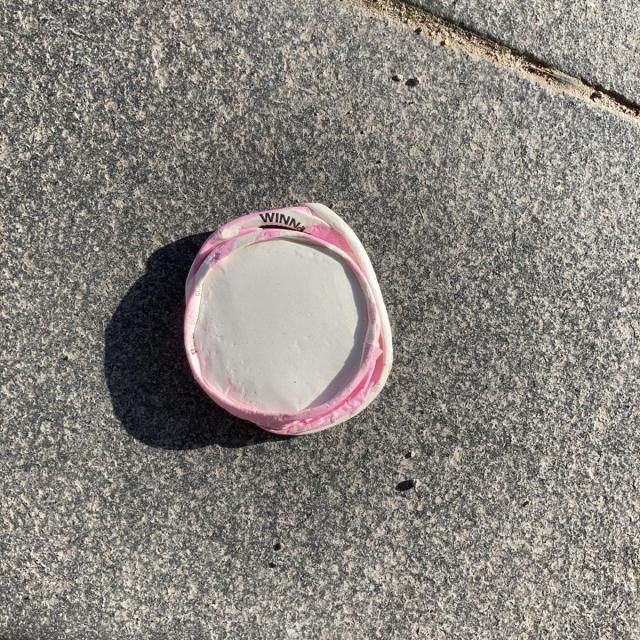Paper: (182, 200, 396, 438)
